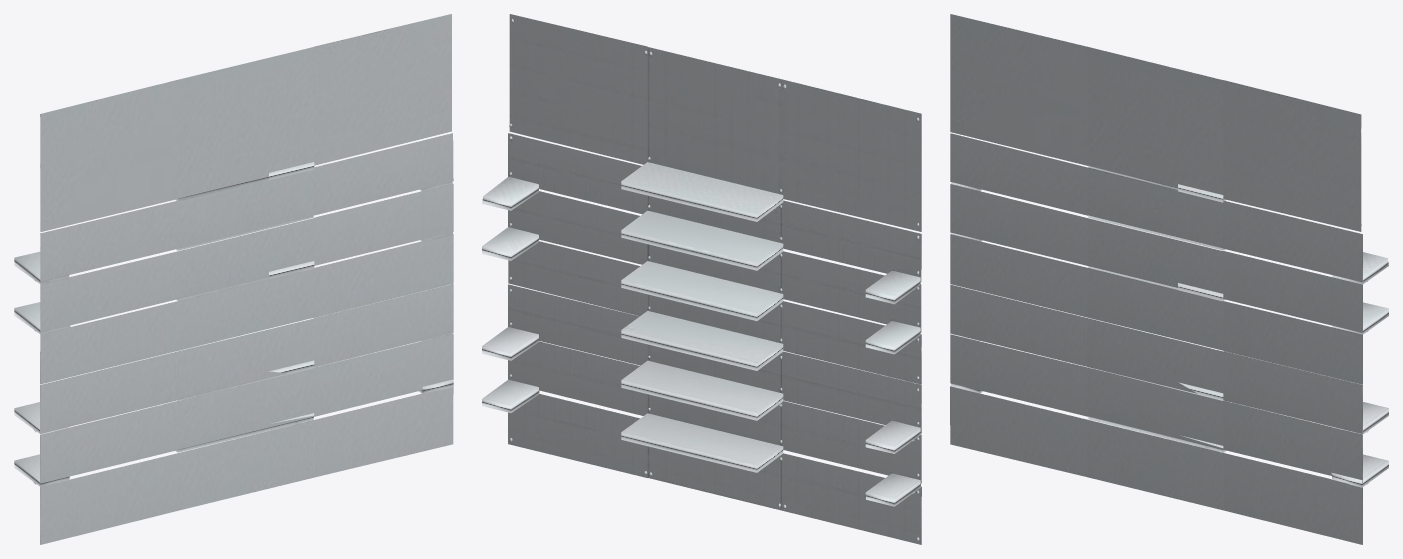
File: mall-shoe-wall-display.glb
3 renders of one model, left to right at view 1: azimuth 30°, elevation 25°; view 2: azimuth 150°, elevation 25°; view 3: azimuth 330°, elevation 25°, orthographic.
Parts seen in each view (by area): view 1: shoe-wall-display; view 2: shoe-wall-display; view 3: shoe-wall-display.
Boxes of the visible parts, x1,y1,x2,y2 form: shoe-wall-display: (14,14,453,544); shoe-wall-display: (482,14,921,544); shoe-wall-display: (950,14,1388,544).
Bounding box in the file's own units: 2 × 2 × 0.2254.
Materials: 1 (1 with a texture image).
